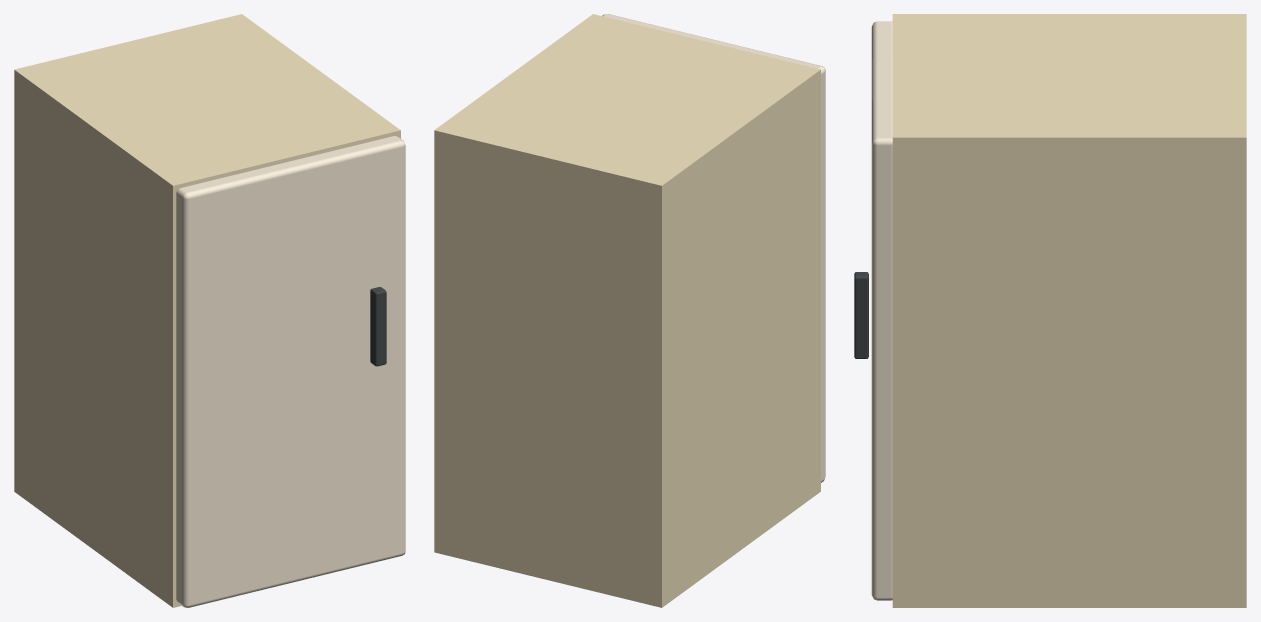
The model's file is fridge_campus-bbeced147f0f.glb.
The picture shows the model from 3 angles, left to right: view 1: azimuth 30°, elevation 25°; view 2: azimuth 150°, elevation 25°; view 3: azimuth 270°, elevation 25°; orthographic projection. The views are drawn at different scales.
Parts seen in each view (by area): view 1: surface_ivory, surface_chalk, surface_graphite; view 2: surface_ivory, surface_chalk; view 3: surface_ivory, surface_chalk, surface_graphite.
Boxes of the visible parts, x1,y1,x2,y2 form: surface_ivory: (14, 14, 400, 607); surface_chalk: (176, 136, 405, 607); surface_graphite: (370, 287, 386, 366); surface_ivory: (434, 14, 820, 607); surface_chalk: (602, 14, 825, 482); surface_ivory: (892, 14, 1246, 607); surface_chalk: (871, 21, 892, 600); surface_graphite: (854, 272, 868, 358).
Bounding box in the file's own units: 0.48 × 0.85 × 0.643.
